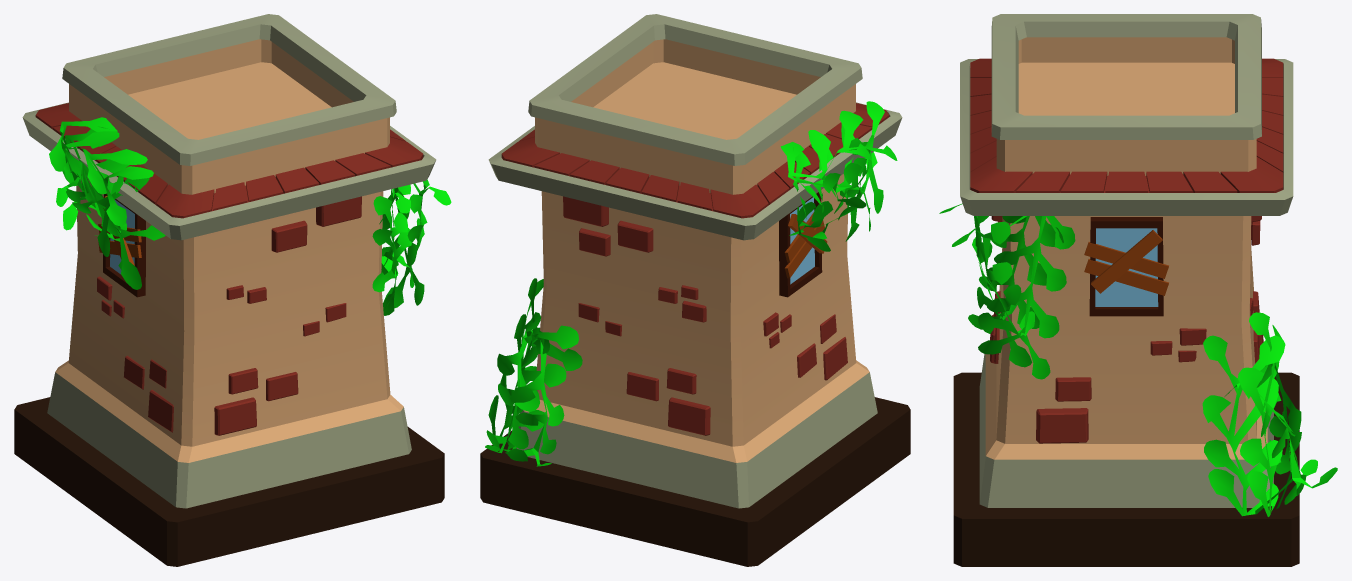
File: nisanc_1_seviye (1).fbx
3 renders of one model, left to right at view 1: azimuth 30°, elevation 25°; view 2: azimuth 150°, elevation 25°; view 3: azimuth 270°, elevation 25°, orthographic. The views are drawn at different scales.
Parts seen in each view (by area): view 1: Cube; view 2: Cube; view 3: Cube.
Part boxes in pixels (left/top/right/bottom): Cube: left=14, top=14, right=451, bottom=566; Cube: left=480, top=14, right=910, bottom=566; Cube: left=939, top=14, right=1337, bottom=566.
Size of the model in its own units: 377 by 444 by 377.
